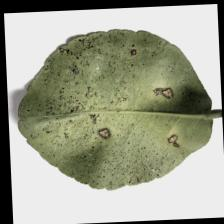canker: (44, 40, 186, 162)
